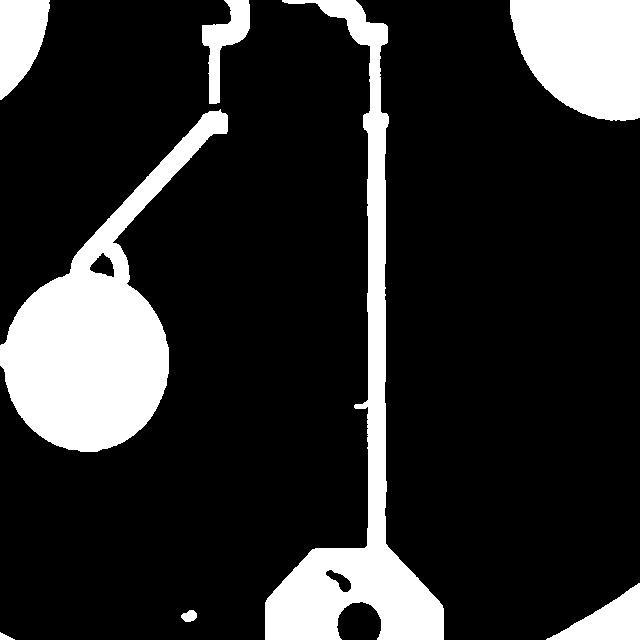copper: (316, 560, 360, 601)
mousebite: (344, 390, 380, 418)
open: (93, 233, 139, 294)
pin-hole: (171, 600, 206, 631)
short: (190, 93, 231, 120)
